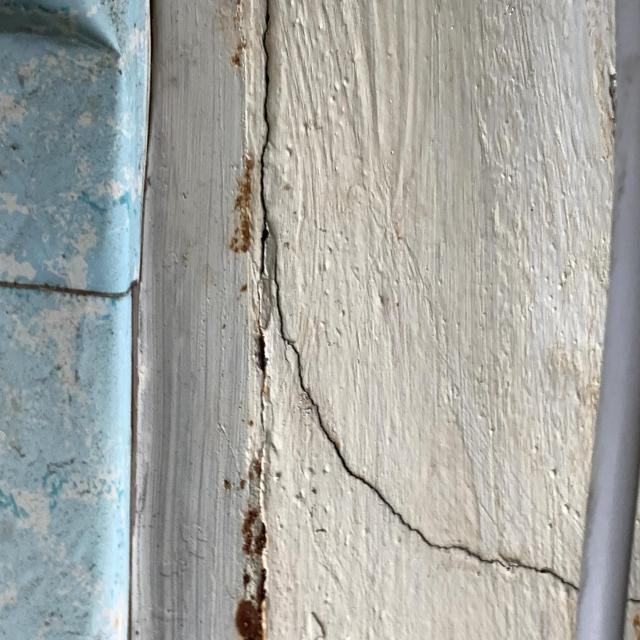SurfaceCrack: (184, 2, 600, 635)
